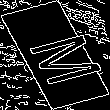M_E: (9, 25, 101, 85)
